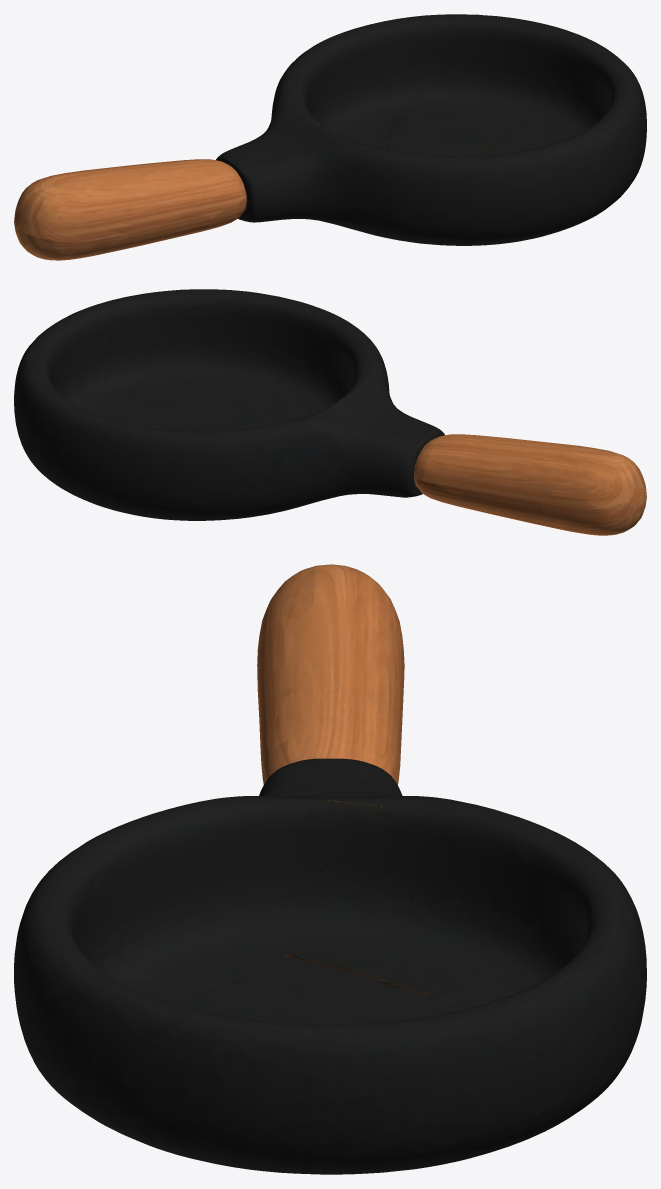
Rendered from pan.glb.
The picture shows the model from 3 angles, top to bottom: view 1: azimuth 30°, elevation 25°; view 2: azimuth 150°, elevation 25°; view 3: azimuth 270°, elevation 25°; orthographic projection. The views are drawn at different scales.
Visible parts, largest first — view 1: Mesh_0; view 2: Mesh_0; view 3: Mesh_0.
Boxes of the visible parts, x1,y1,x2,y2 form: Mesh_0: (14,14,646,260); Mesh_0: (14,289,646,535); Mesh_0: (14,564,646,1174).
Bounding box in the file's own units: 1.9 × 0.3104 × 1.04.
1 material, 1 textured.
